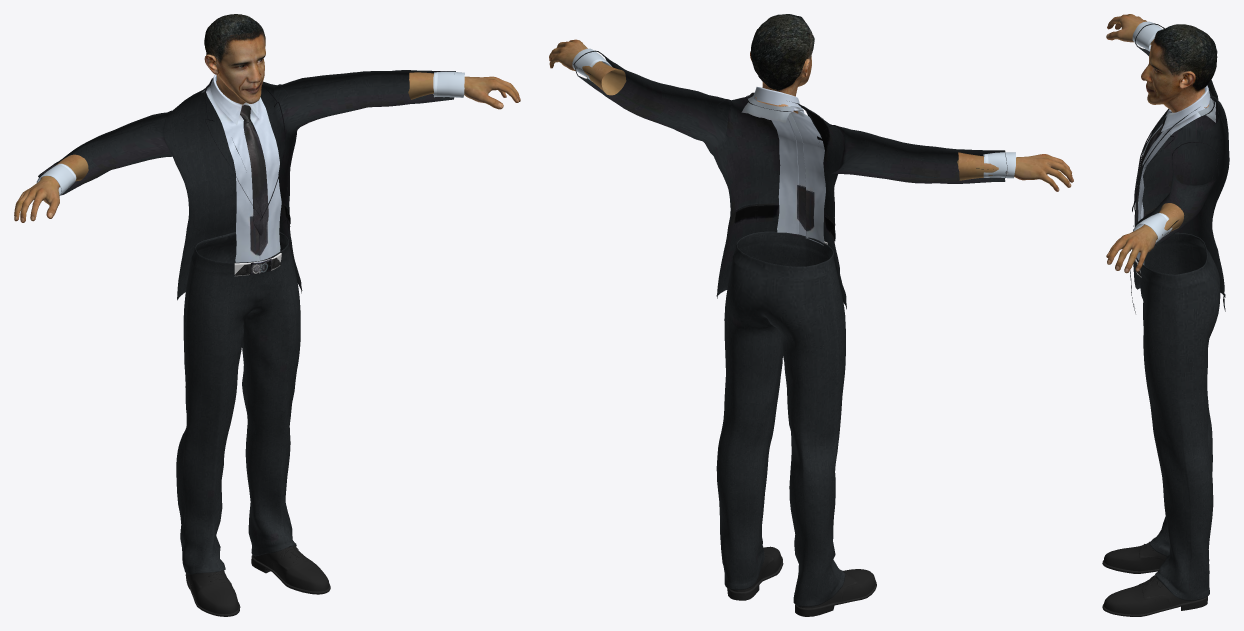
3 views of the same model, side by side, from view 1: azimuth 30°, elevation 25°; view 2: azimuth 150°, elevation 25°; view 3: azimuth 270°, elevation 25° (orthographic). The views are drawn at different scales.
Parts seen in each view (by area): view 1: NanGongMo; view 2: NanGongMo; view 3: NanGongMo.
Part boxes in pixels (x1,y1,x2,y2): NanGongMo: [14, 14, 520, 616]; NanGongMo: [549, 14, 1073, 616]; NanGongMo: [1102, 14, 1229, 616].
Bounding box in the file's own units: 172 × 184 × 37.84.
Materials: 5 (5 with a texture image).
